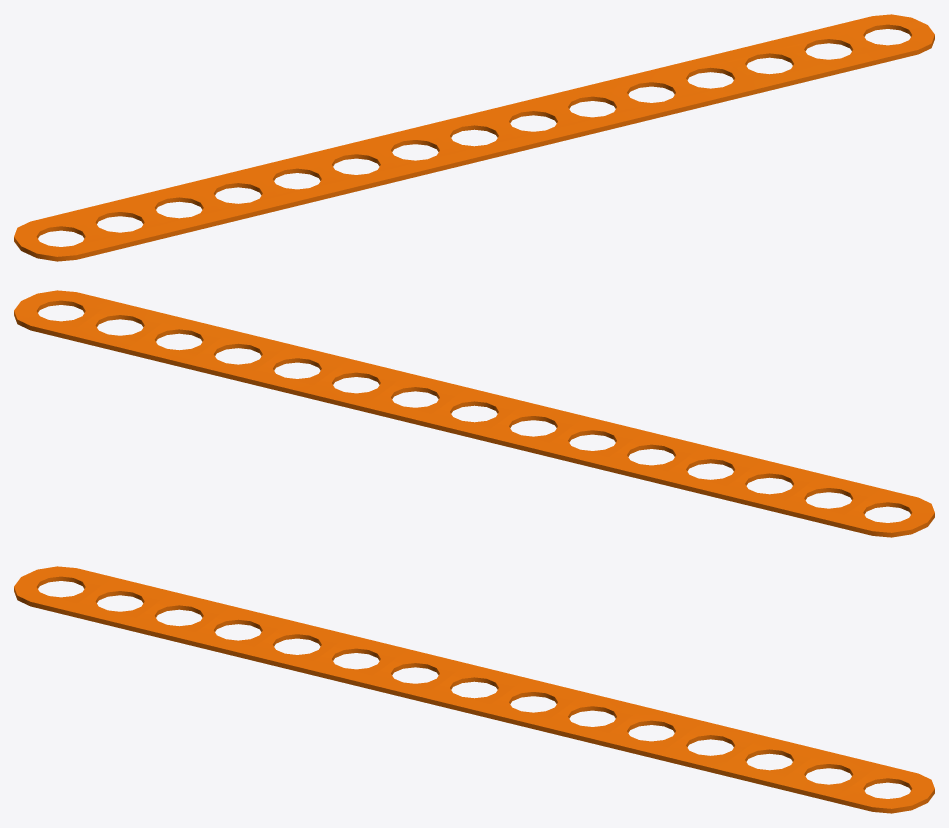
File: FifteenLongYellow.fbx
3 views of the same model, one above another, from view 1: azimuth 30°, elevation 25°; view 2: azimuth 150°, elevation 25°; view 3: azimuth 330°, elevation 25° (orthographic).
Parts seen in each view (by area): view 1: Blue15; view 2: Blue15; view 3: Blue15.
Boxes of the visible parts, bbox=[...] form: Blue15: bbox=[14, 14, 934, 261]; Blue15: bbox=[14, 290, 934, 537]; Blue15: bbox=[14, 566, 934, 813].
Bounding box in the file's own units: 39.25 × 0.1942 × 3.45.
